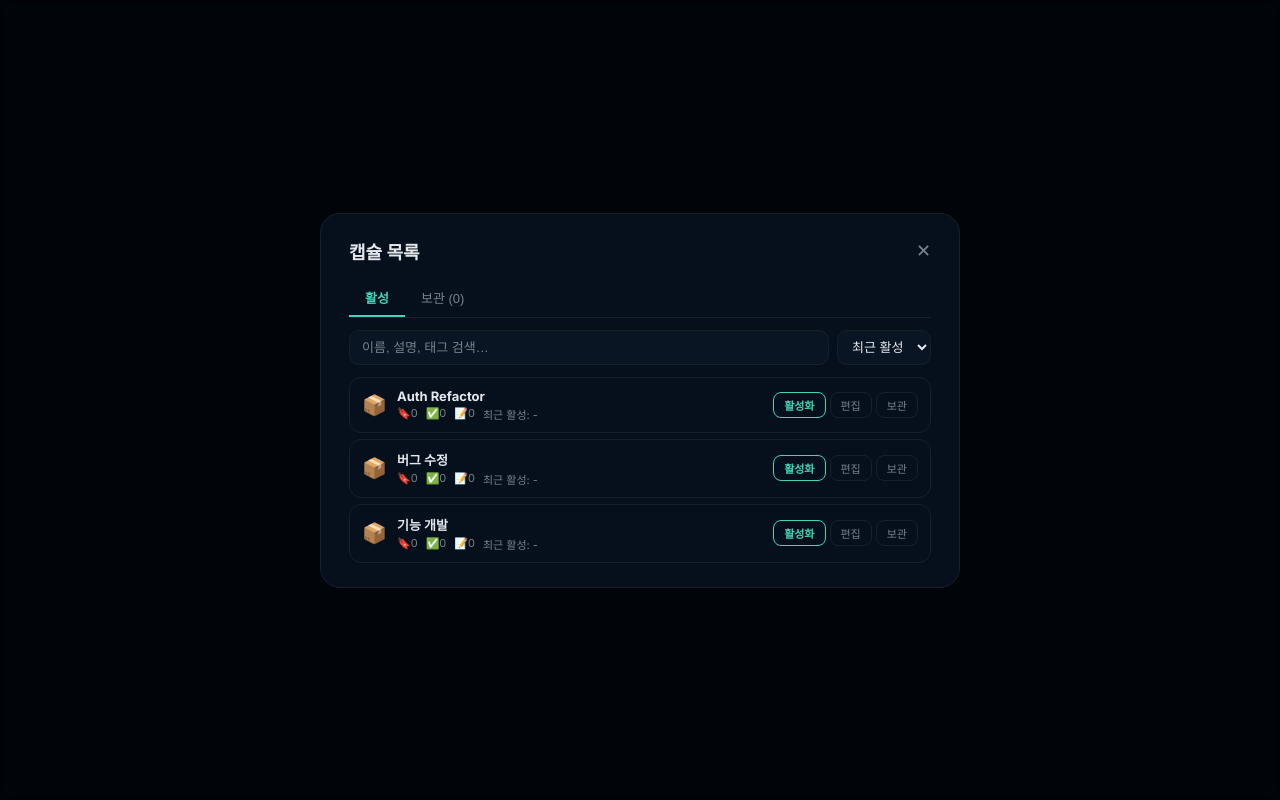
Test: CapsuleListPanel › AC-027: 검색 필터링 › 검색결과가 없으면 빈 상태 메시지를 표시한다
In the field with test id "capsule-search-input": (589, 347) 349,330 -> 829,364, type "xxxxxxxxnotexist"
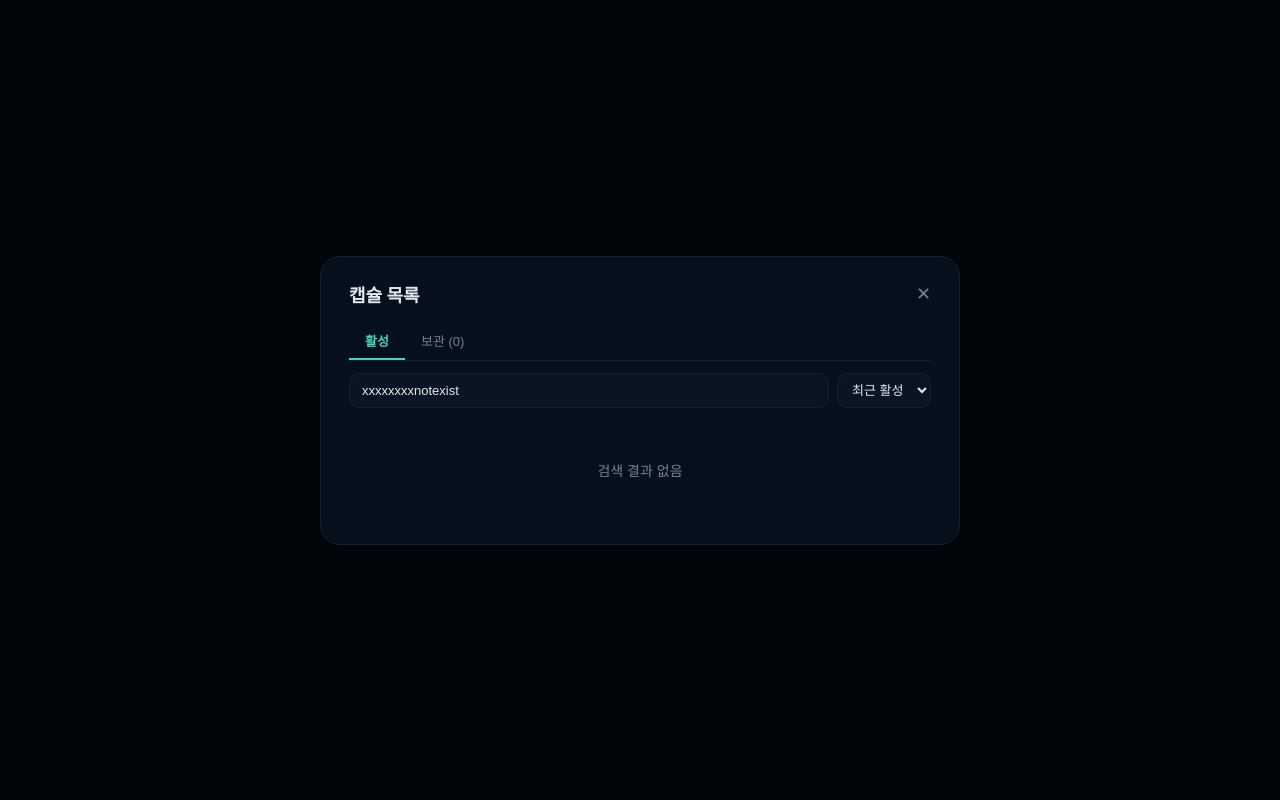
Expected: the text "검색 결과 없음" is shown, 597,462 -> 683,478
